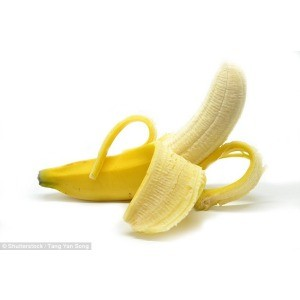banana_brain food: (151, 106, 226, 192)
